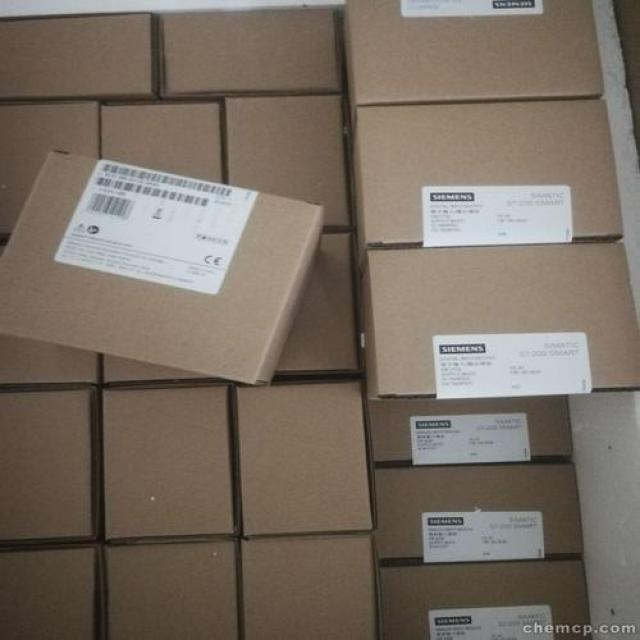Carton: (0, 152, 324, 383), (371, 242, 639, 388), (358, 96, 622, 242), (349, 0, 603, 106), (378, 456, 582, 561), (237, 385, 372, 536), (100, 387, 236, 535), (156, 5, 340, 92), (383, 561, 585, 634), (0, 387, 96, 539), (238, 544, 376, 639), (0, 10, 151, 93), (108, 549, 239, 634)
